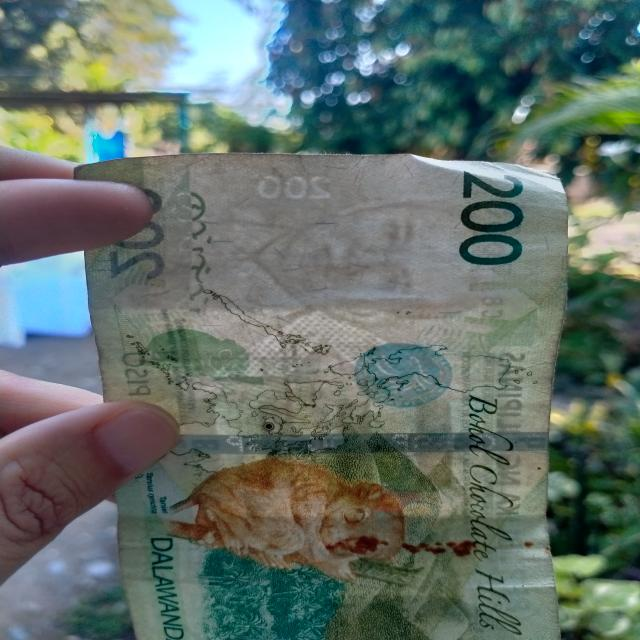security_thread: (163, 432, 550, 453)
see_through_mark: (156, 185, 218, 337)
value_watermark: (252, 175, 330, 196)
watermark: (207, 190, 494, 336)
